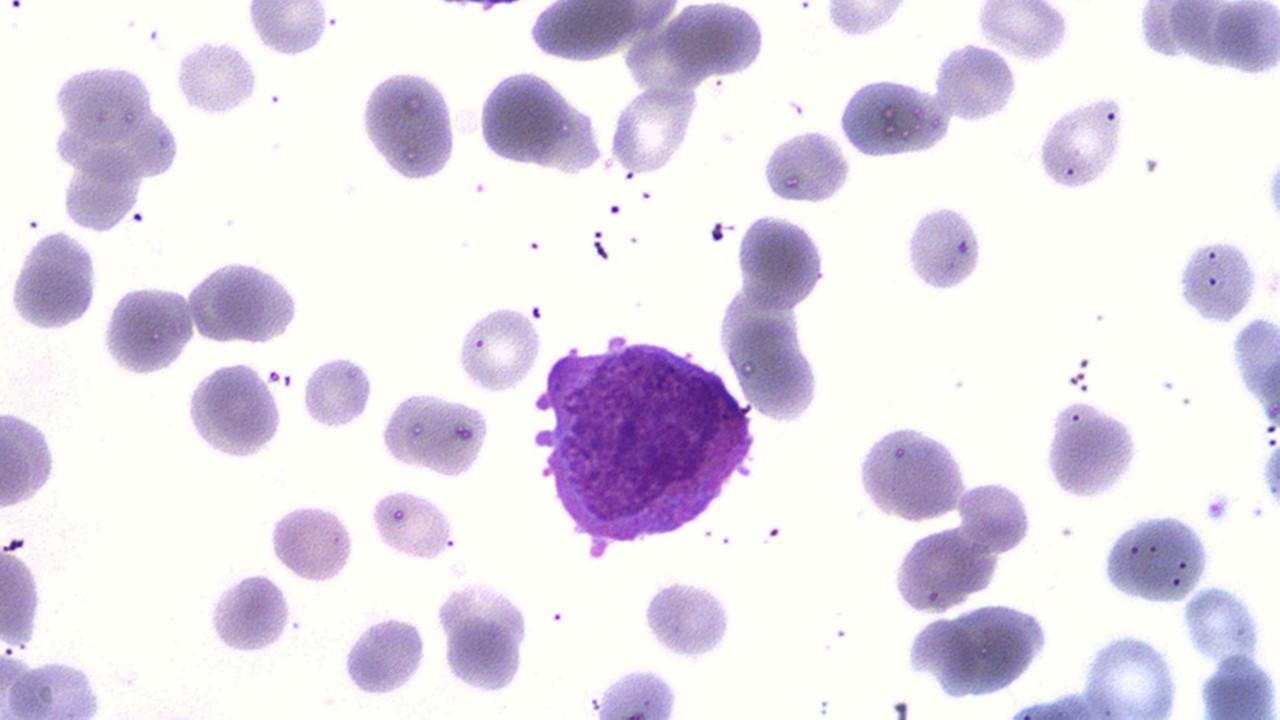Platelets: (1202, 489, 1234, 525), (1261, 263, 1280, 301), (590, 234, 610, 263), (710, 220, 728, 242), (592, 228, 607, 248), (268, 367, 283, 382), (796, 0, 816, 11), (129, 210, 144, 224)
RBC: (898, 600, 1057, 704), (716, 298, 829, 429), (851, 417, 974, 526), (355, 64, 463, 185), (432, 575, 535, 697), (1098, 510, 1214, 610), (1040, 394, 1144, 503), (182, 356, 287, 462), (378, 385, 496, 477), (473, 65, 576, 170), (834, 72, 954, 162), (4, 225, 103, 334), (1030, 92, 1130, 196), (385, 390, 497, 481), (98, 280, 197, 380), (734, 209, 830, 312), (98, 280, 196, 380), (1076, 628, 1184, 716), (888, 527, 988, 618), (207, 255, 304, 348), (638, 574, 736, 666), (896, 199, 986, 297), (336, 608, 432, 699), (452, 301, 543, 397), (608, 81, 696, 179), (526, 7, 668, 66), (660, 1, 768, 78), (1173, 234, 1259, 330), (202, 568, 293, 657), (268, 497, 356, 586), (758, 126, 854, 207), (1156, 0, 1262, 73), (170, 35, 261, 119), (930, 40, 1020, 124), (60, 149, 145, 236), (1, 653, 116, 716), (1180, 580, 1264, 664), (367, 486, 455, 564), (0, 401, 59, 514), (1228, 304, 1280, 428), (973, 2, 1077, 63), (955, 478, 1039, 551), (301, 353, 376, 432), (241, 0, 337, 60), (1, 538, 48, 656), (1211, 0, 1277, 82), (1134, 0, 1214, 65), (592, 664, 684, 720), (818, 1, 920, 41), (1258, 430, 1280, 522)
WBC: (523, 326, 758, 564)
